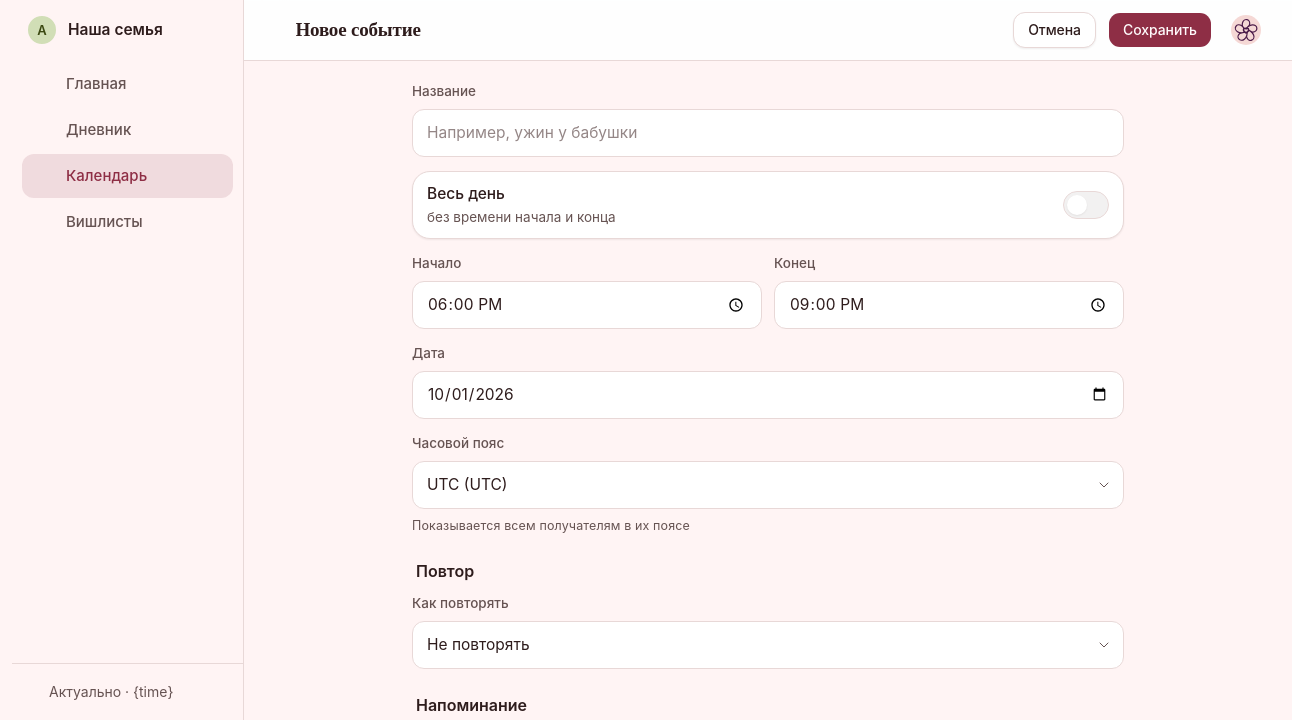
Scenario: EventEditorScreen (repeating, issue #21) › an until date before the event’s own is refused in the form
In the field labelled "Название": [768, 133] box [412,109,1124,157], type "Ужин у бабушки"
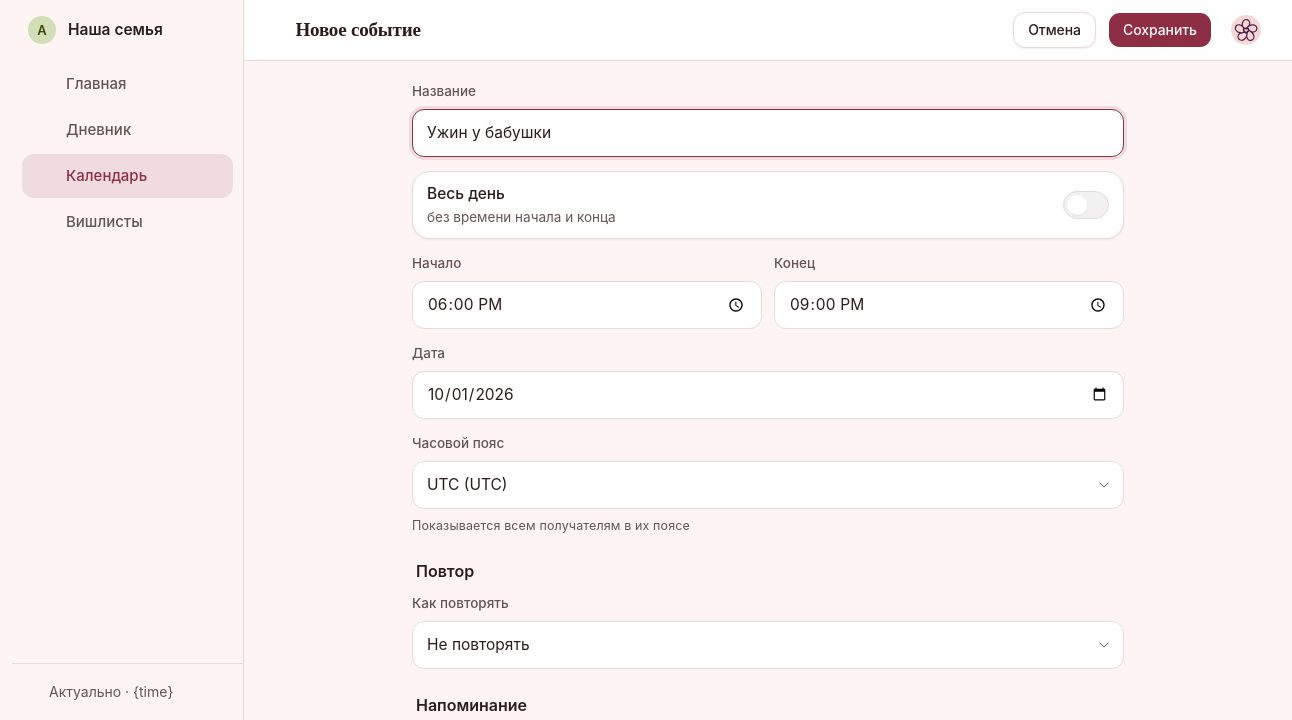
Select "Каждый месяц" in the dropdown labelled "Как повторять": [768, 645] box [412,621,1124,669]
(page scrolled)
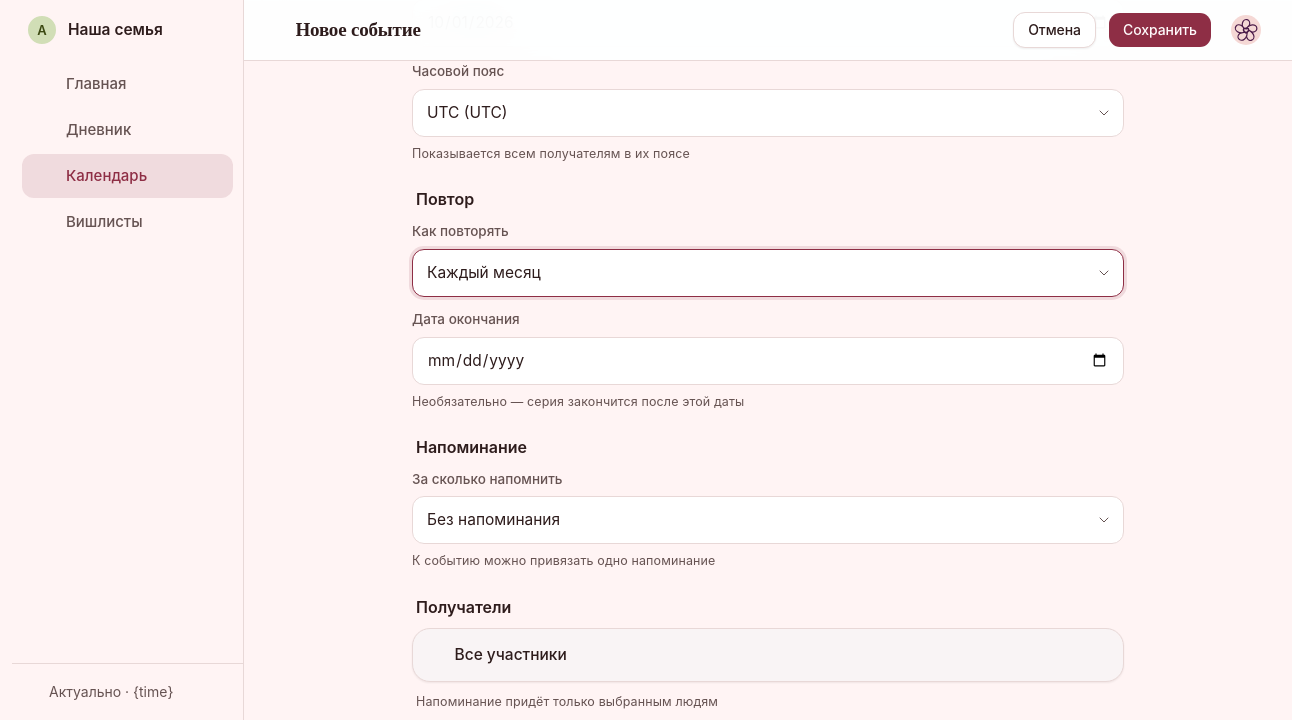
In the date field labelled "Дата окончания": [768, 360] box [412,336,1124,384], type "2020-01-01"
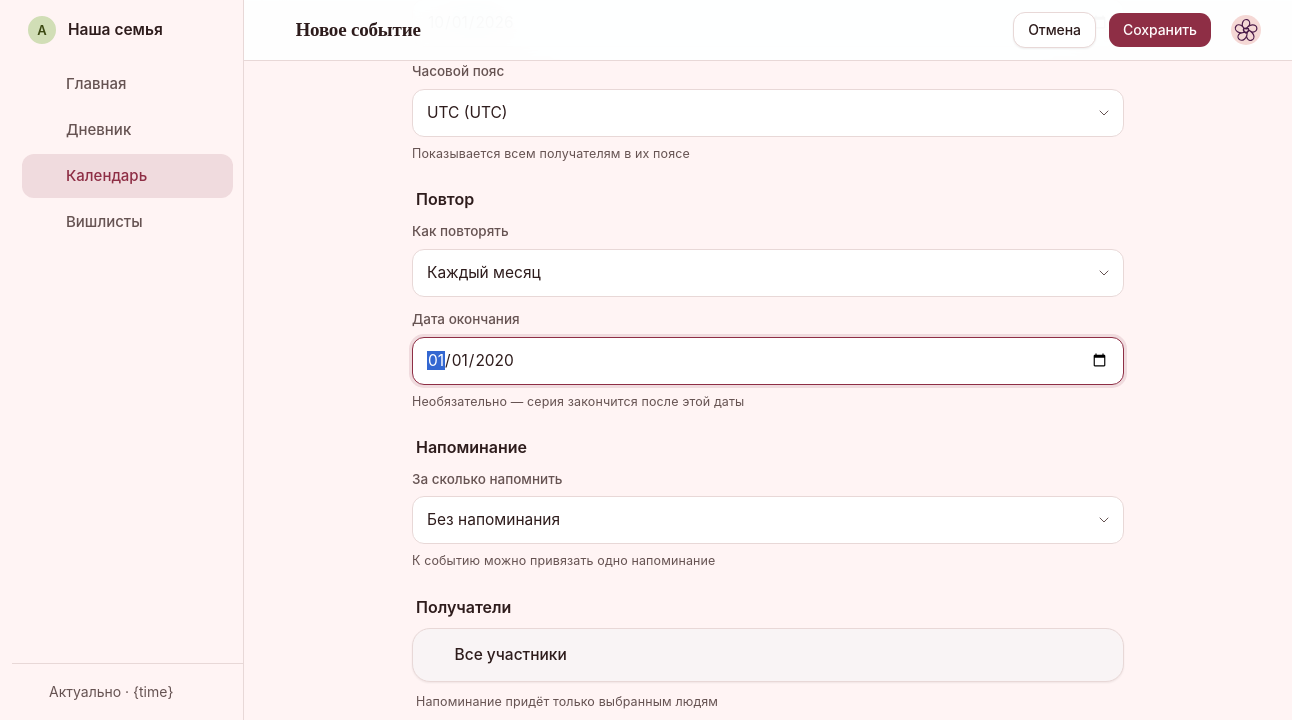
Click the button "Сохранить": [1160, 30] box [1108,12,1212,48]
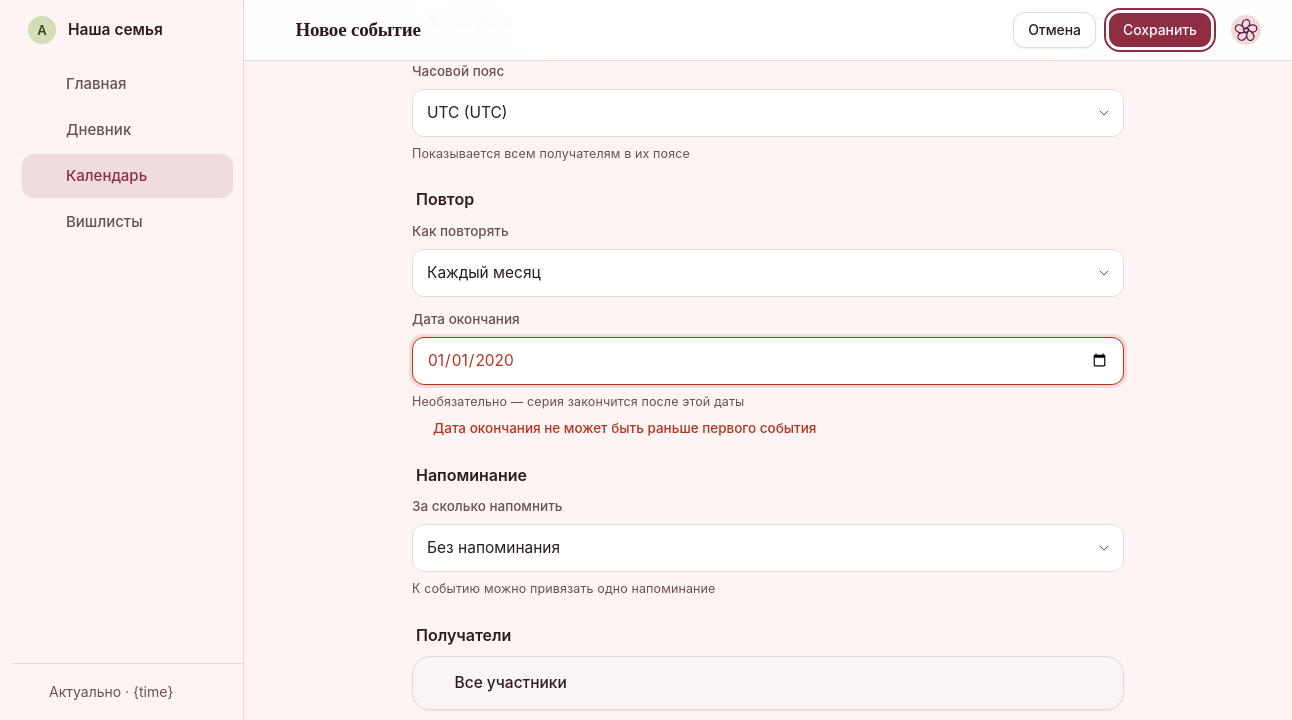
Expected: the text "Дата окончания не может быть раньше первого события" is shown, [433,418,816,439]
